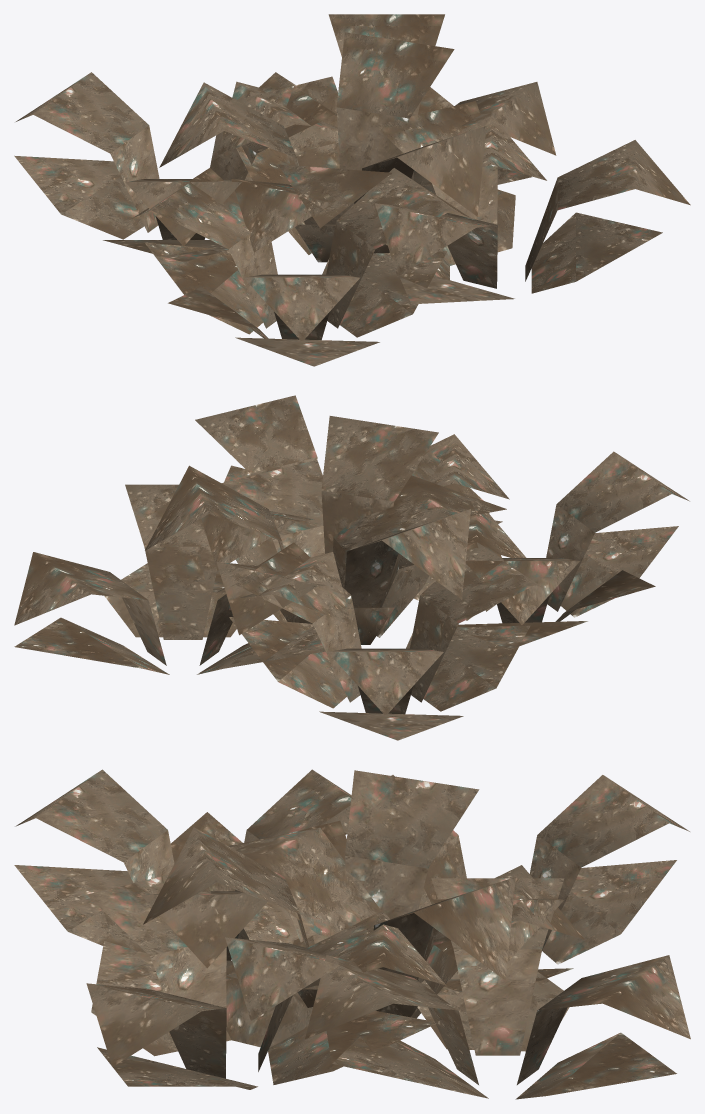
The model's file is DensePlantsSmall2Texture.fbx.
3 views of the same model, one above another, from view 1: azimuth 30°, elevation 25°; view 2: azimuth 150°, elevation 25°; view 3: azimuth 270°, elevation 25° (orthographic). The views are drawn at different scales.
Visible parts, largest first — view 1: mergedBlocks; view 2: mergedBlocks; view 3: mergedBlocks.
Part boxes in pixels (box(x1,y1,x2,y2)): mergedBlocks: box(14, 14, 690, 366); mergedBlocks: box(14, 395, 689, 740); mergedBlocks: box(14, 769, 690, 1099).
Size of the model in its own units: 123 by 37.24 by 131.
1 material, 1 textured.
